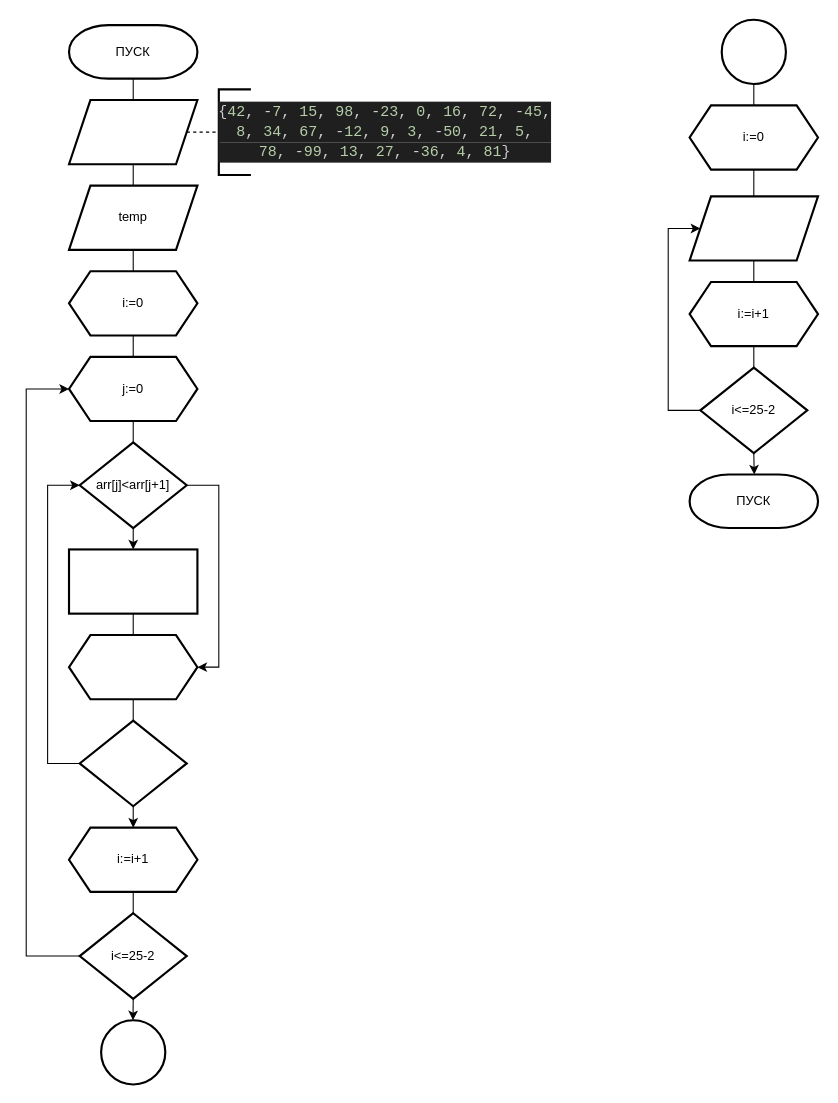
Image size: 838x1103. Some labels were removed from this diagram. Here are the shapes that lost their labels. From the top down, the box of each, then its label:
(67, 98, 198, 165): arr[25]:=
(688, 195, 819, 261): arr[i]
(67, 548, 198, 614): temp := arr[j] arr[j] := arr[j+1] arr[j+1] := temp
(67, 633, 198, 700): j:=j+1
(78, 719, 187, 807): j<=25-i-2
